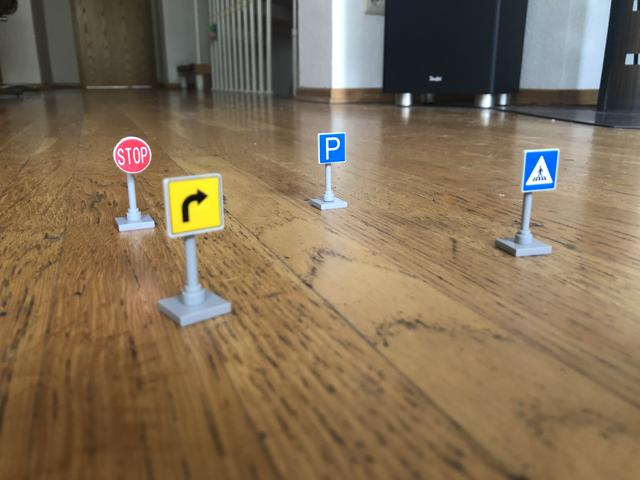fahrtrichtung rechts: (164, 172, 228, 239)
fußgängerüberweg: (520, 147, 561, 193)
parken: (314, 130, 349, 166)
stop: (111, 134, 158, 174)
